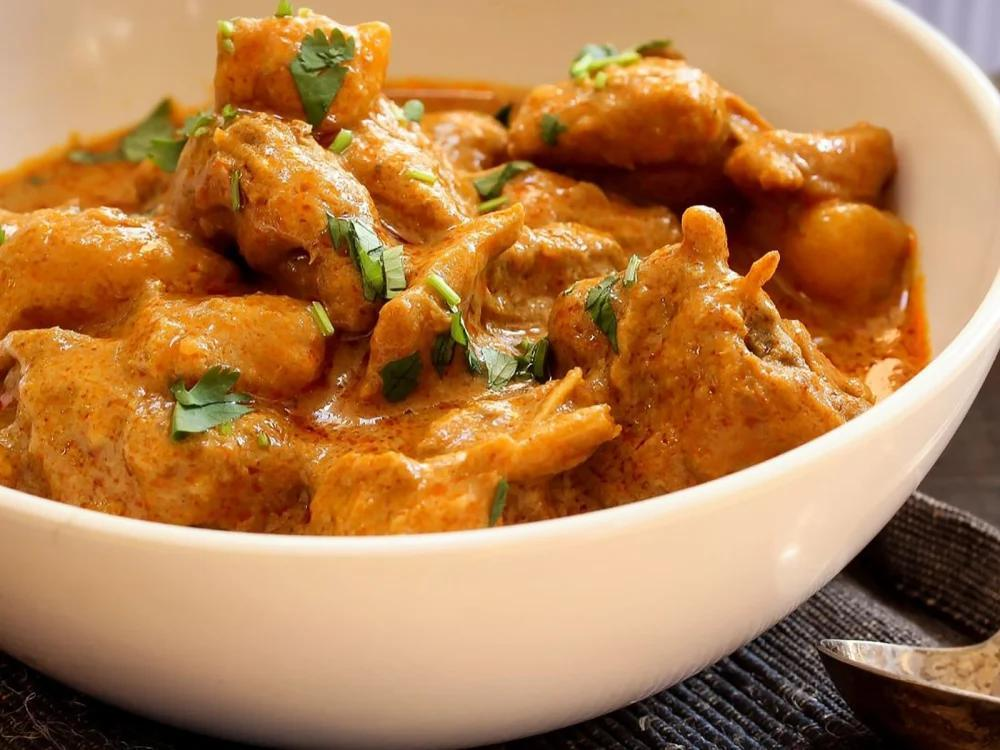chicken: (8, 25, 978, 538)
